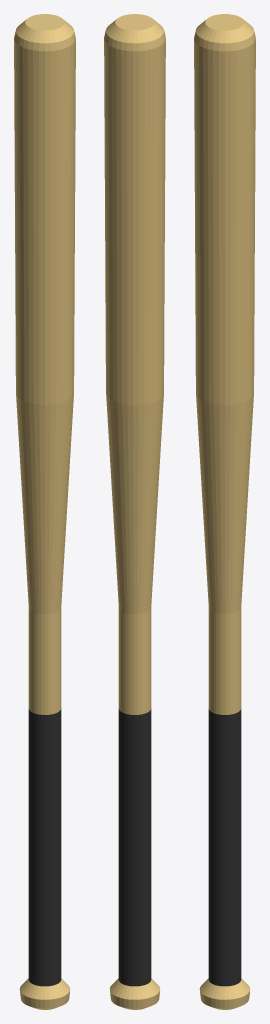
File: bat.fbx
3 views of the same model, side by side, from view 1: azimuth 90°, elevation 25°; view 2: azimuth 210°, elevation 25°; view 3: azimuth 270°, elevation 25° (orthographic).
Visible parts, largest first — view 1: Cylinder; view 2: Cylinder; view 3: Cylinder.
Part boxes in pixels (<box>): Cylinder: <box>14,14,75,1009</box>; Cylinder: <box>104,14,165,1009</box>; Cylinder: <box>194,14,255,1009</box>.
Bounding box in the file's own units: 28.07 × 490 × 28.07.
